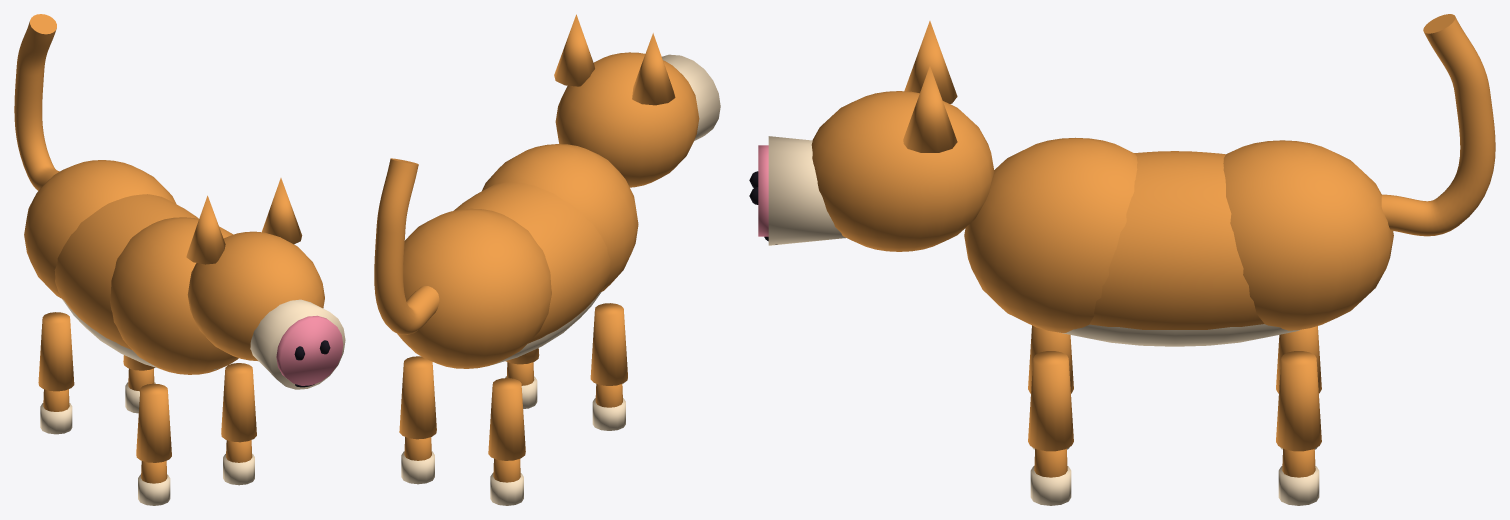
File: cat.glb
The picture shows the model from 3 angles, left to right: view 1: azimuth 30°, elevation 25°; view 2: azimuth 150°, elevation 25°; view 3: azimuth 270°, elevation 25°; orthographic projection. The views are drawn at different scales.
Visible parts, largest first — view 1: body, head, tail, legBR, legFR, legFL, earR, earL, legBL; view 2: body, head, tail, legBR, legFR, legBL, earR, earL, legFL; view 3: body, head, tail, legFL, legBL, earL, earR, legBR, legFR.
Boxes of the visible parts, box(x1,y1,x2,y2) form: body: box(24, 160, 238, 374); head: box(187, 231, 345, 389); tail: box(14, 14, 59, 190); legBR: box(38, 312, 74, 434); legFR: box(136, 383, 171, 505); legFL: box(221, 363, 256, 485); earR: box(186, 195, 225, 264); earL: box(262, 178, 302, 244); legBL: box(123, 355, 155, 413); body: box(397, 144, 638, 368); head: box(555, 52, 720, 187); tail: box(374, 158, 439, 334); legBR: box(488, 378, 525, 505); legFR: box(590, 303, 627, 430); legBL: box(399, 356, 436, 484); earR: box(632, 33, 675, 105); earL: box(554, 14, 594, 86); legFL: box(505, 348, 539, 408); body: box(964, 137, 1393, 346); head: box(749, 91, 994, 251); tail: box(1381, 14, 1495, 236); legFL: box(1028, 351, 1073, 505); legBL: box(1276, 351, 1321, 505); earL: box(903, 66, 957, 152); earR: box(904, 21, 957, 103); legBR: box(1276, 326, 1321, 449); legFR: box(1028, 325, 1073, 449).
Size of the model in its own units: 0.34 by 0.848 by 1.26.
